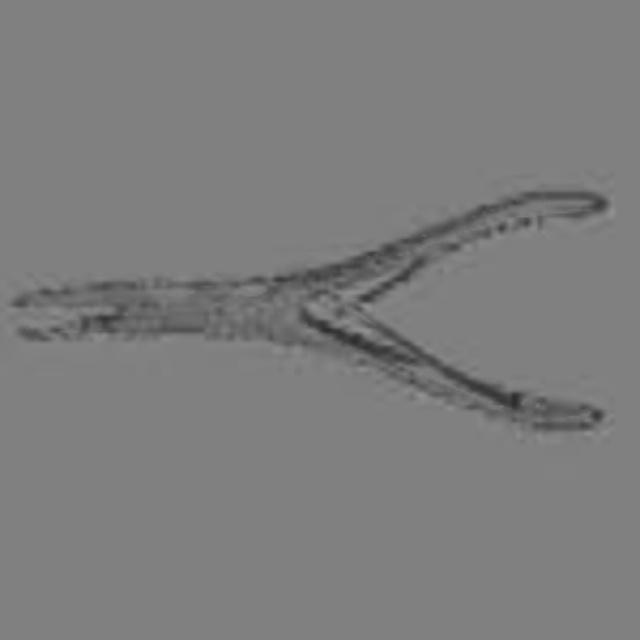gubia: (13, 193, 610, 430)
